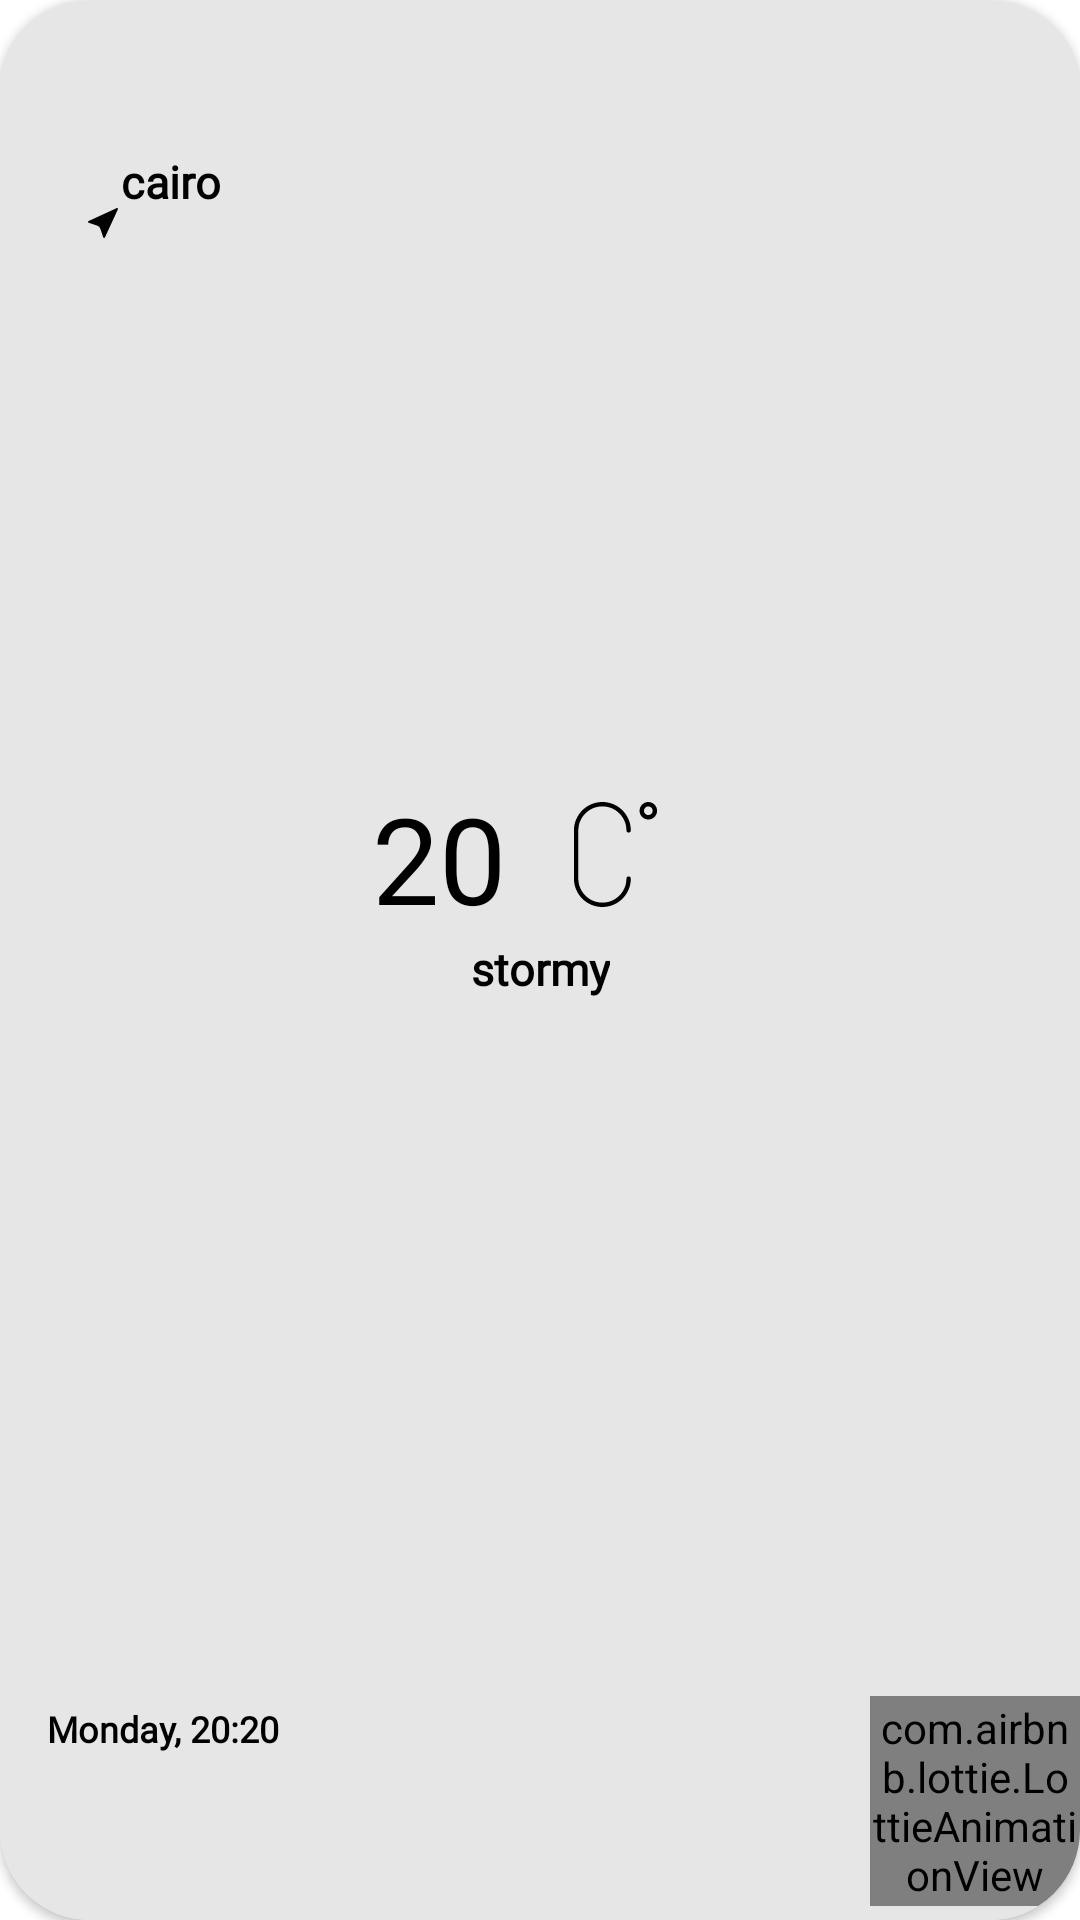

Where to tap for icons on this 1080x1920 app screen, as point (x, y):
celsius: point (615, 854)
location arrow: point (103, 223)
